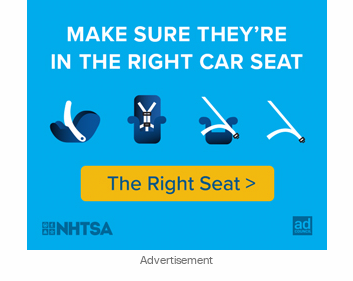fake_button: (73, 160, 280, 210)
